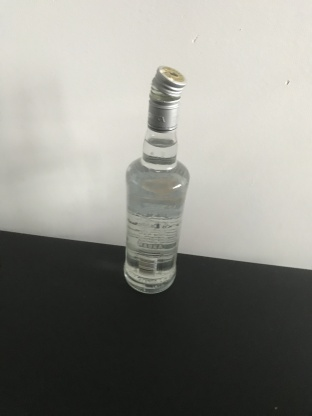nakretka: (146, 63, 187, 133)
